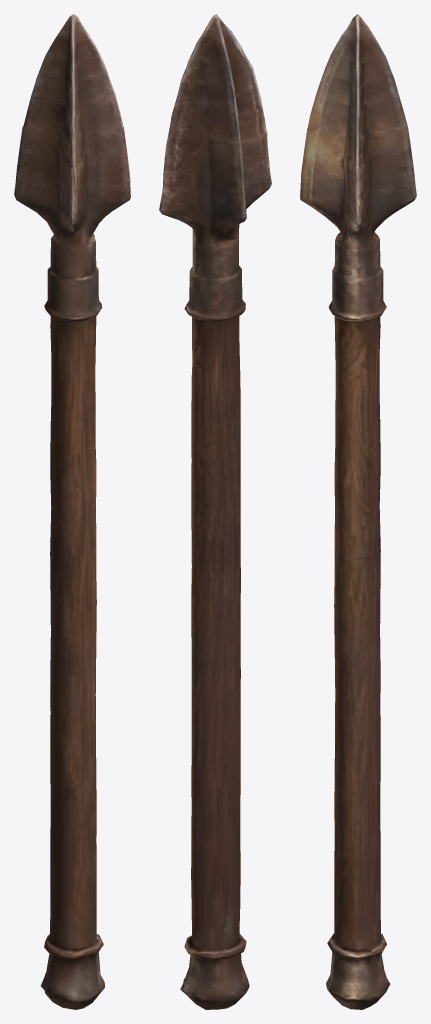
Rendered from lanca.glb.
3 views of the same model, side by side, from view 1: azimuth 90°, elevation 25°; view 2: azimuth 210°, elevation 25°; view 3: azimuth 270°, elevation 25° (orthographic).
Visible parts, largest first — view 1: tripo_node_1217db4b-1bfb-4136-a833-75125ce55d9f; view 2: tripo_node_1217db4b-1bfb-4136-a833-75125ce55d9f; view 3: tripo_node_1217db4b-1bfb-4136-a833-75125ce55d9f.
Boxes of the visible parts, x1,y1,x2,y2 form: tripo_node_1217db4b-1bfb-4136-a833-75125ce55d9f: (14,14,130,1009); tripo_node_1217db4b-1bfb-4136-a833-75125ce55d9f: (159,14,271,1009); tripo_node_1217db4b-1bfb-4136-a833-75125ce55d9f: (300,14,416,1009).
Bounding box in the file's own units: 0.1425 × 1.2 × 0.1282.
1 material, 1 textured.
